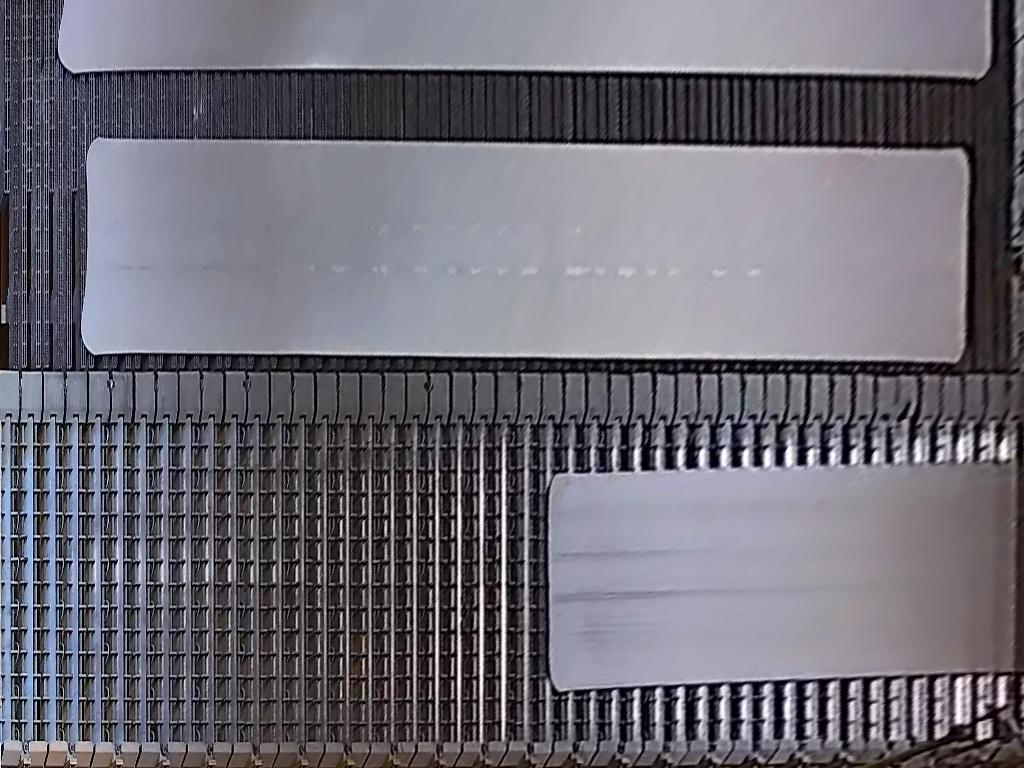steel: (79, 136, 969, 362), (546, 462, 1024, 693), (55, 1, 992, 79)
